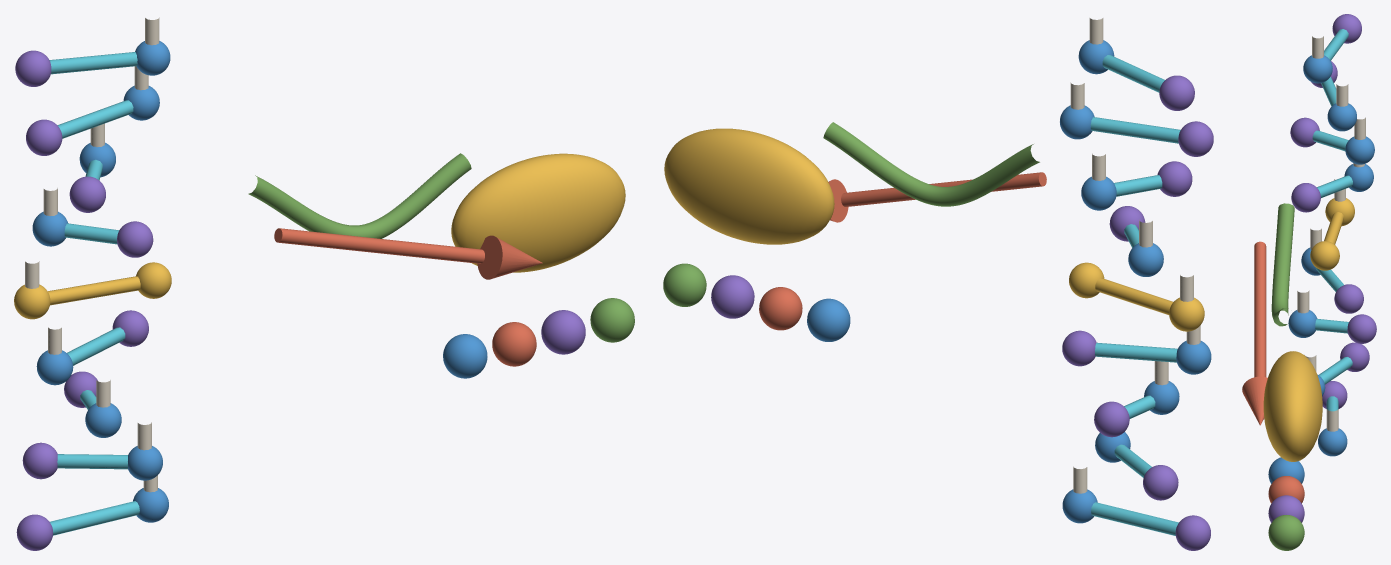
The model's file is bio-genetics-transcription-translation.glb.
3 renders of one model, left to right at view 1: azimuth 30°, elevation 25°; view 2: azimuth 150°, elevation 25°; view 3: azimuth 270°, elevation 25°, orthographic. The views are drawn at different scales.
Visible parts, largest first — view 1: ribosome-translation-machine, mrna-transcript-ribbon, information-flow-arrow-shaft, information-flow-arrow-head, protein-amino-acid-output-0, protein-amino-acid-output-1, protein-amino-acid-output-2, protein-amino-acid-output-3, dna-gene-template-paired-base-rung-4, dna-gene-template-paired-base-rung-0, dna-gene-template-paired-base-rung-8, dna-gene-template-paired-base-rung-7 (+21 smaller); view 2: ribosome-translation-machine, mrna-transcript-ribbon, information-flow-arrow-shaft, protein-amino-acid-output-1, protein-amino-acid-output-2, protein-amino-acid-output-3, protein-amino-acid-output-0, dna-gene-template-paired-base-rung-7, dna-gene-template-paired-base-rung-0, dna-gene-template-paired-base-rung-3, dna-gene-template-paired-base-rung-4, dna-gene-template-base-dot-right-7 (+19 smaller); view 3: ribosome-translation-machine, mrna-transcript-ribbon, information-flow-arrow-shaft, protein-amino-acid-output-3, information-flow-arrow-head, dna-gene-template-base-dot-right-4, dna-gene-template-base-dot-right-3, dna-gene-template-base-dot-right-2, dna-gene-template-base-dot-right-5, protein-amino-acid-output-2, protein-amino-acid-output-1, dna-gene-template-base-dot-left-0 (+26 smaller).
Boxes of the visible parts, x1=… form: ribosome-translation-machine: x1=451, y1=153, x2=625, y2=272; mrna-transcript-ribbon: x1=248, y1=153, x2=471, y2=238; information-flow-arrow-shaft: x1=274, y1=228, x2=484, y2=263; information-flow-arrow-head: x1=477, y1=235, x2=542, y2=279; protein-amino-acid-output-0: x1=443, y1=334, x2=487, y2=378; protein-amino-acid-output-1: x1=492, y1=322, x2=536, y2=366; protein-amino-acid-output-2: x1=541, y1=310, x2=585, y2=354; protein-amino-acid-output-3: x1=590, y1=298, x2=634, y2=342; dna-gene-template-paired-base-rung-4: x1=48, y1=276, x2=140, y2=305; dna-gene-template-paired-base-rung-0: x1=50, y1=501, x2=139, y2=535; dna-gene-template-paired-base-rung-8: x1=49, y1=52, x2=137, y2=74; dna-gene-template-paired-base-rung-7: x1=57, y1=100, x2=133, y2=138; ribosome-translation-machine: x1=664, y1=128, x2=834, y2=244; mrna-transcript-ribbon: x1=823, y1=122, x2=1039, y2=206; information-flow-arrow-shaft: x1=841, y1=172, x2=1046, y2=206; protein-amino-acid-output-1: x1=759, y1=287, x2=802, y2=330; protein-amino-acid-output-2: x1=711, y1=275, x2=754, y2=318; protein-amino-acid-output-3: x1=663, y1=263, x2=706, y2=306; protein-amino-acid-output-0: x1=807, y1=298, x2=850, y2=341; dna-gene-template-paired-base-rung-7: x1=1090, y1=117, x2=1180, y2=143; dna-gene-template-paired-base-rung-0: x1=1091, y1=502, x2=1178, y2=535; dna-gene-template-paired-base-rung-3: x1=1095, y1=342, x2=1177, y2=362; dna-gene-template-paired-base-rung-4: x1=1095, y1=278, x2=1173, y2=314; dna-gene-template-base-dot-right-7: x1=1178, y1=121, x2=1213, y2=156; ribosome-translation-machine: x1=1263, y1=351, x2=1322, y2=461; mrna-transcript-ribbon: x1=1271, y1=203, x2=1294, y2=326; information-flow-arrow-shaft: x1=1254, y1=241, x2=1266, y2=377; protein-amino-acid-output-3: x1=1268, y1=515, x2=1304, y2=550; information-flow-arrow-head: x1=1242, y1=376, x2=1267, y2=425; dna-gene-template-base-dot-right-4: x1=1310, y1=241, x2=1339, y2=270; dna-gene-template-base-dot-right-3: x1=1334, y1=284, x2=1363, y2=313; dna-gene-template-base-dot-right-2: x1=1347, y1=314, x2=1376, y2=343; dna-gene-template-base-dot-right-5: x1=1291, y1=183, x2=1320, y2=212; protein-amino-acid-output-2: x1=1268, y1=495, x2=1304, y2=522; protein-amino-acid-output-1: x1=1268, y1=476, x2=1304, y2=503; dna-gene-template-base-dot-left-0: x1=1318, y1=428, x2=1347, y2=456.
Size of what is drawn, in the model's own units: 1.67 by 1.4 by 0.4092.
